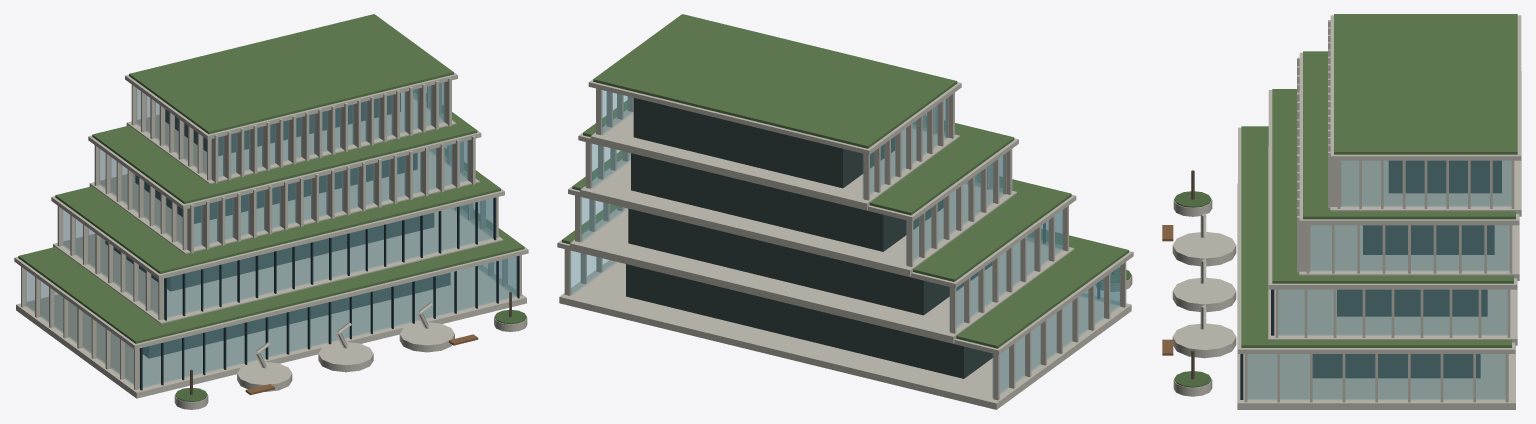
File: innovation-campus-far.glb
3 views of the same model, side by side, from view 1: azimuth 30°, elevation 25°; view 2: azimuth 150°, elevation 25°; view 3: azimuth 270°, elevation 25° (orthographic). The views are drawn at different scales.
Bounding box in the file's own units: 27.15 × 13.71 × 18.58.
